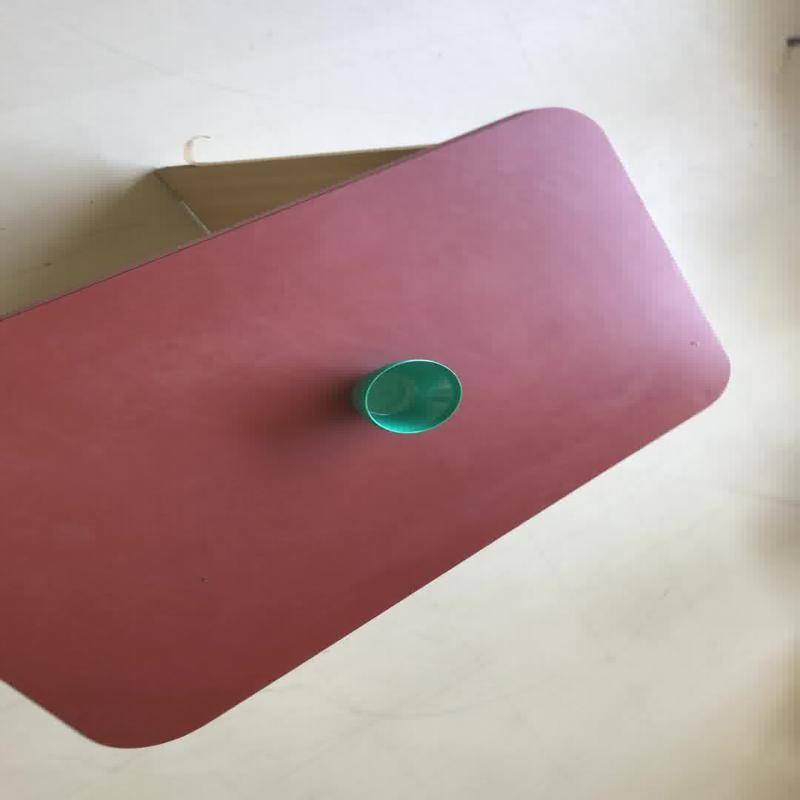bowl: (1, 104, 732, 748), (350, 358, 463, 434)
